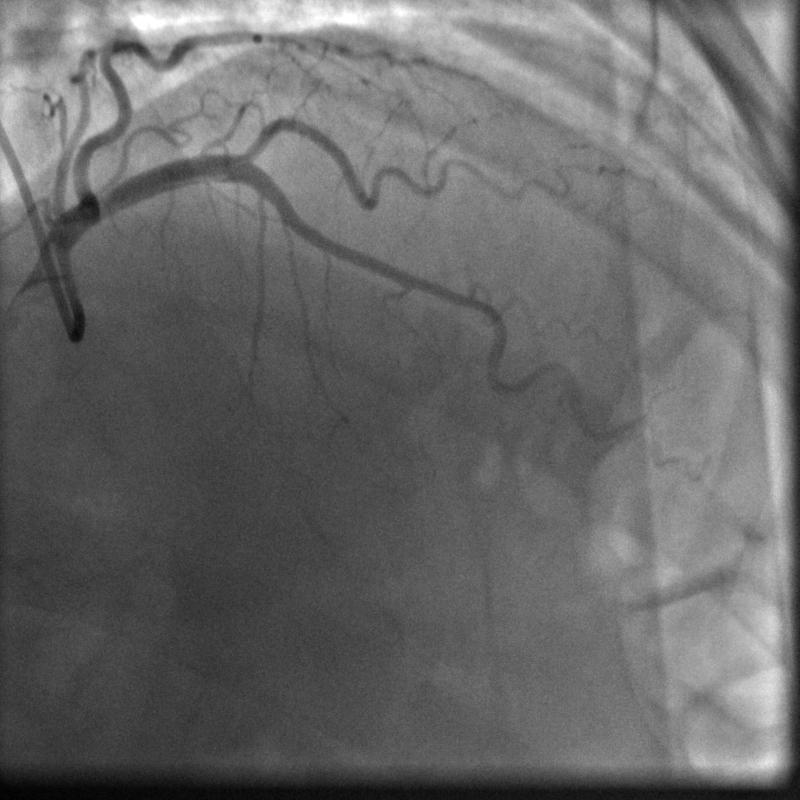Stenosis: (438, 283, 494, 316)
